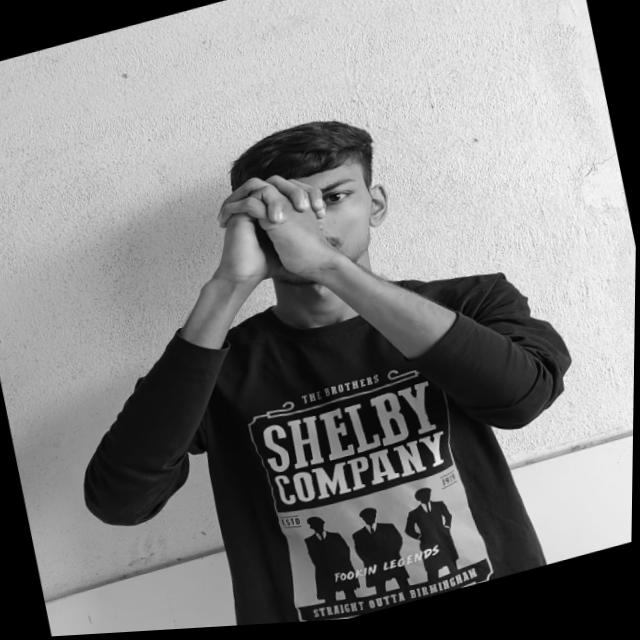Sorry: (185, 161, 349, 326)
